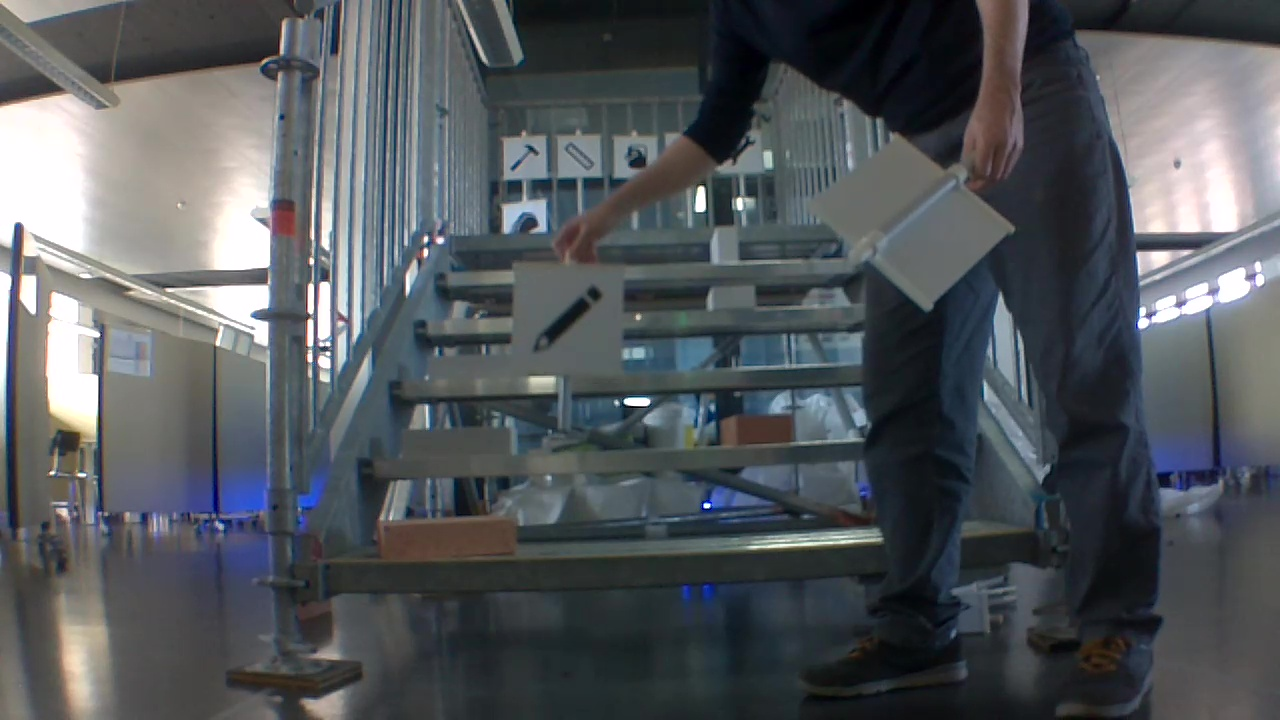brick: (372, 518, 516, 565), (400, 429, 516, 459), (432, 354, 519, 382), (721, 414, 794, 446), (706, 283, 756, 306), (714, 228, 739, 261)
bucket: (625, 141, 651, 170)
edge: (318, 533, 877, 598), (359, 438, 868, 481)
hammer: (511, 141, 540, 171)
pencil: (532, 282, 607, 350)
ruler: (565, 139, 595, 175)
taco: (508, 208, 543, 235)
